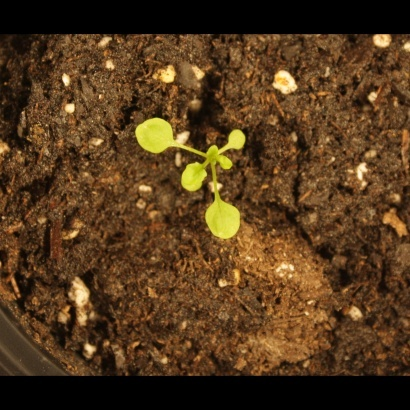leaf: (201, 198, 247, 241), (133, 116, 176, 156), (180, 162, 211, 195), (216, 153, 239, 180), (227, 127, 250, 153), (198, 139, 224, 162)
